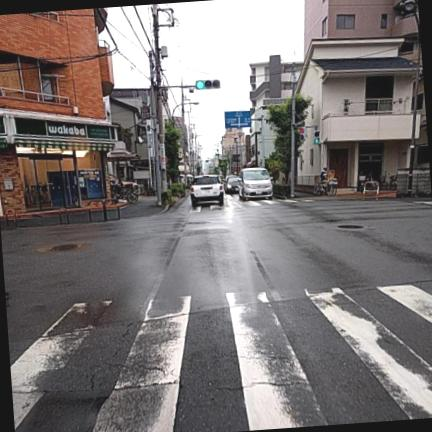Road: (1, 197, 431, 431)
